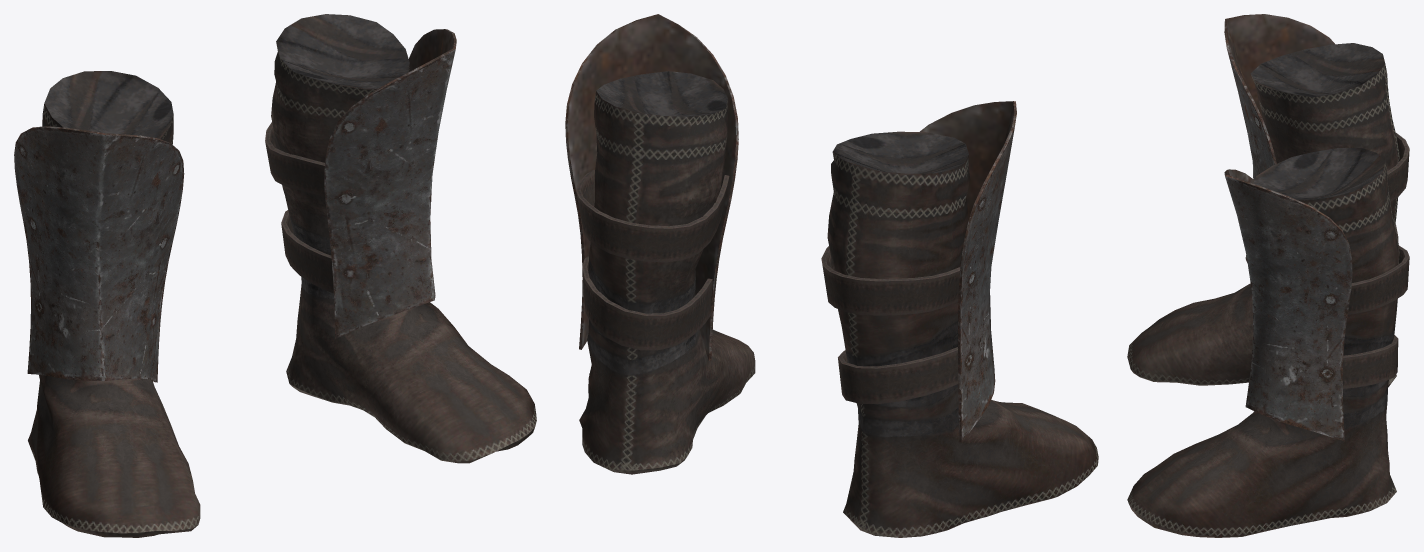
The model's file is sk_gb_uruk_boots_med_c.fbx.
3 renders of one model, left to right at view 1: azimuth 30°, elevation 25°; view 2: azimuth 150°, elevation 25°; view 3: azimuth 270°, elevation 25°, orthographic. The views are drawn at different scales.
Parts seen in each view (by area): view 1: sk_gb_uruk_boots_med_c.0, sk_gb_uruk_boots_med_c.1; view 2: sk_gb_uruk_boots_med_c.0, sk_gb_uruk_boots_med_c.1; view 3: sk_gb_uruk_boots_med_c.0, sk_gb_uruk_boots_med_c.1.
Boxes of the visible parts, bbox=[...] form: sk_gb_uruk_boots_med_c.0: bbox=[14, 14, 536, 537]; sk_gb_uruk_boots_med_c.1: bbox=[265, 122, 333, 293]; sk_gb_uruk_boots_med_c.0: bbox=[565, 14, 1098, 537]; sk_gb_uruk_boots_med_c.1: bbox=[576, 169, 960, 403]; sk_gb_uruk_boots_med_c.0: bbox=[1127, 14, 1399, 537]; sk_gb_uruk_boots_med_c.1: bbox=[1342, 133, 1409, 388].
Bounding box in the file's own units: 0.5641 × 0.3199 × 0.4293.
2 materials, 2 textured.
